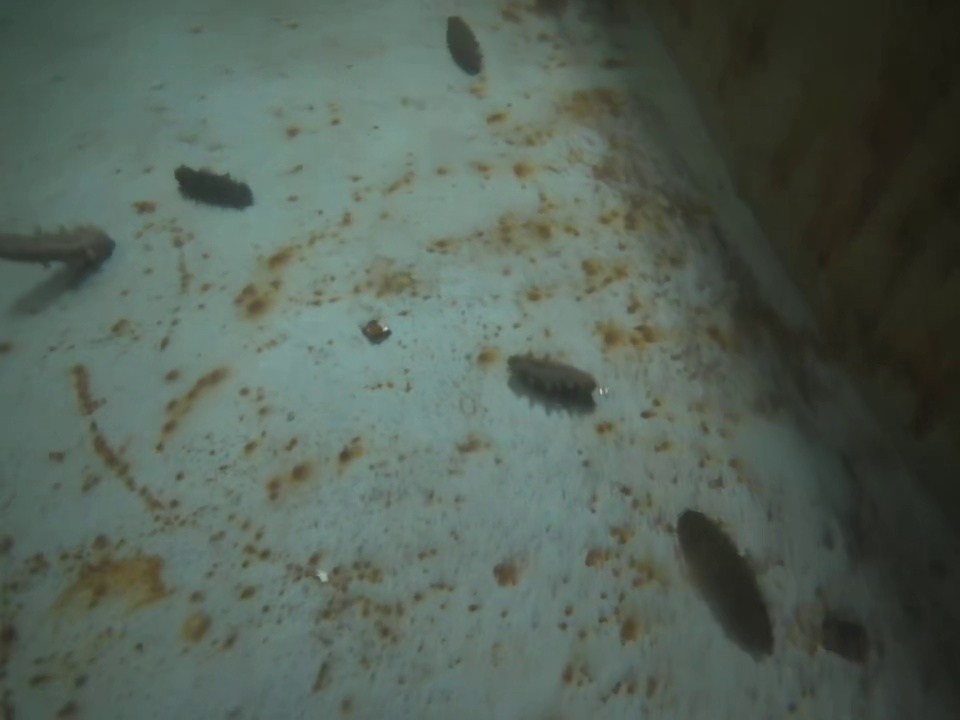seacucumber: (678, 503, 773, 662), (507, 348, 595, 406), (1, 227, 121, 264), (172, 164, 255, 208), (442, 9, 484, 77)
